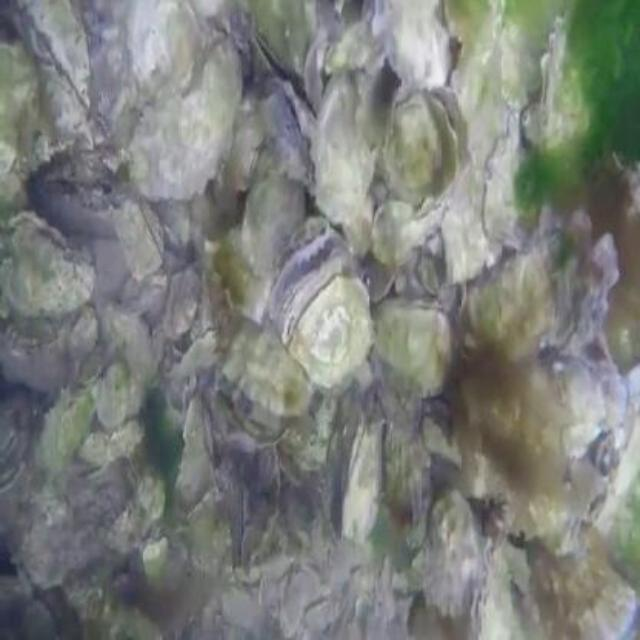Oyster-Closed: (127, 36, 242, 203), (460, 228, 581, 358), (512, 548, 638, 638), (540, 6, 594, 153), (313, 75, 369, 212), (245, 147, 307, 270), (486, 112, 542, 248), (424, 493, 483, 617), (377, 297, 454, 390), (368, 0, 450, 85), (34, 378, 97, 471), (215, 225, 275, 321), (344, 422, 385, 542), (468, 538, 513, 638), (0, 39, 34, 168), (117, 201, 163, 280), (225, 94, 262, 191), (445, 0, 503, 58), (282, 571, 327, 636), (162, 268, 201, 337), (0, 429, 28, 498), (98, 361, 129, 423), (145, 537, 169, 591), (0, 409, 19, 467), (305, 600, 335, 632), (376, 559, 392, 601)
Oyster-Open: (272, 231, 374, 392), (218, 316, 311, 429), (386, 87, 471, 209), (0, 209, 93, 317), (256, 80, 323, 184), (250, 31, 286, 94), (573, 460, 608, 519)
